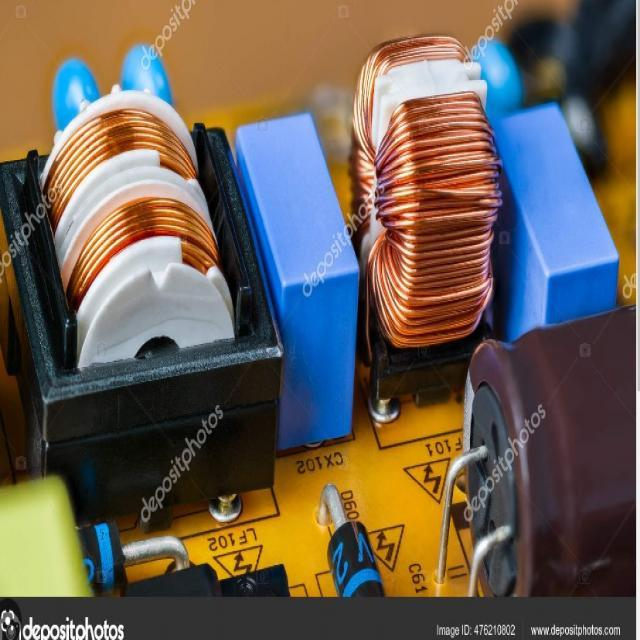Capacitor: (439, 308, 636, 596)
Inductor: (44, 91, 231, 366), (351, 35, 500, 348)
Resistor: (79, 522, 189, 594), (316, 484, 383, 598)
